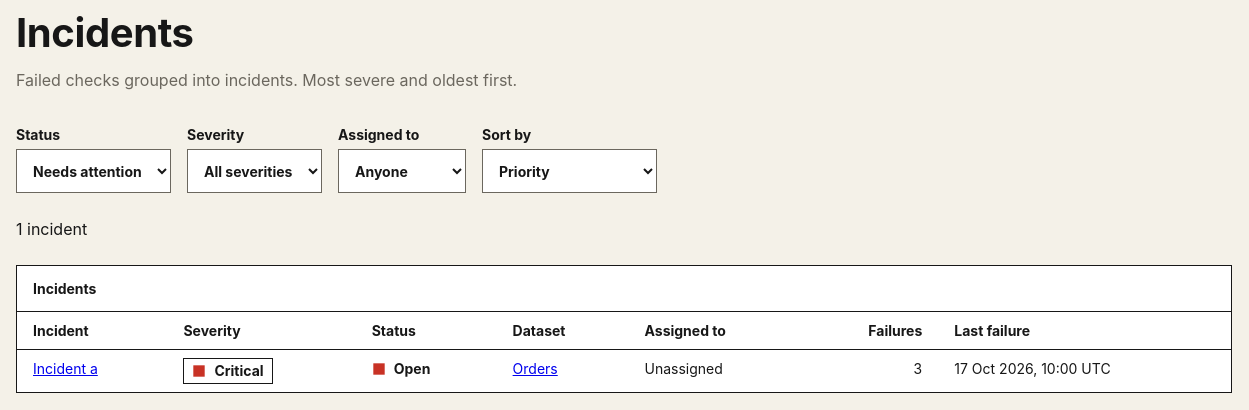
Test case: Incidents page › refetches with severity and assignee filters
This screenshot has width=1249, height=410.
Check: the link "Incident a" is shown, box [33, 360, 98, 377]
Check: the text "1 incident" is shown, box [16, 219, 87, 239]
Select "Critical" in the dropdown labelled "Severity" at (254, 171), box [187, 149, 322, 193]
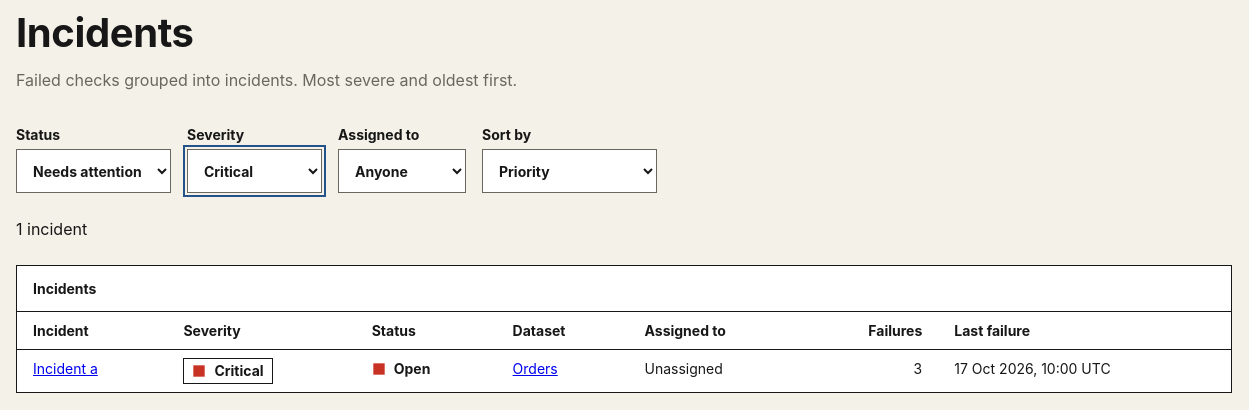
Select "Me" in the dropdown labelled "Assigned to" at (402, 171), box [338, 149, 466, 193]
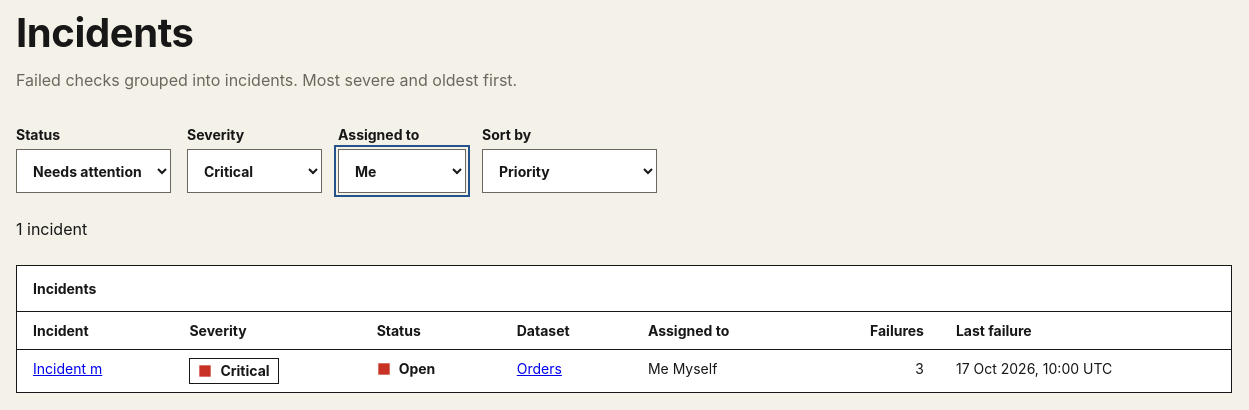
Check: the link "Incident m" is shown, box [33, 360, 102, 377]
Check: the link "Incident a" is gone
